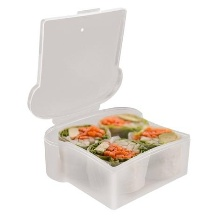plastic_box: (19, 0, 198, 216)
